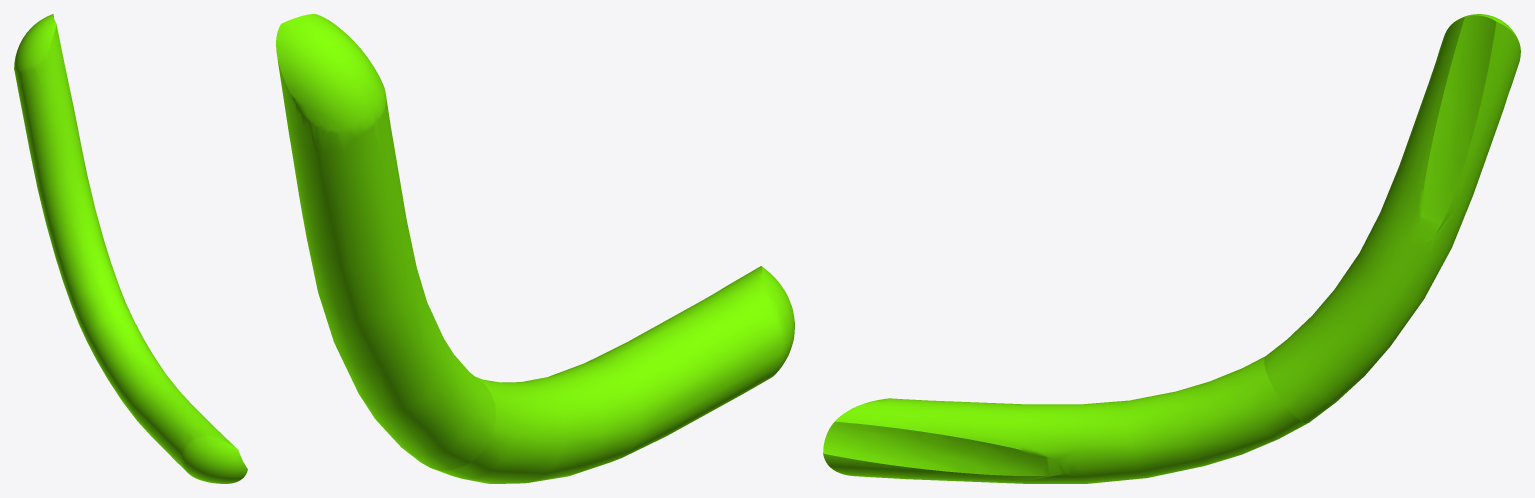
File: chair_027_05.obj
3 renders of one model, left to right at view 1: azimuth 30°, elevation 25°; view 2: azimuth 150°, elevation 25°; view 3: azimuth 270°, elevation 25°, orthographic. The views are drawn at different scales.
Bounding box in the file's own units: 27.52 × 121 × 157.
